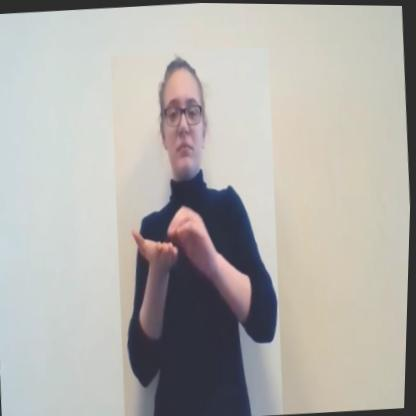ExcuseMe: (102, 44, 294, 416)
